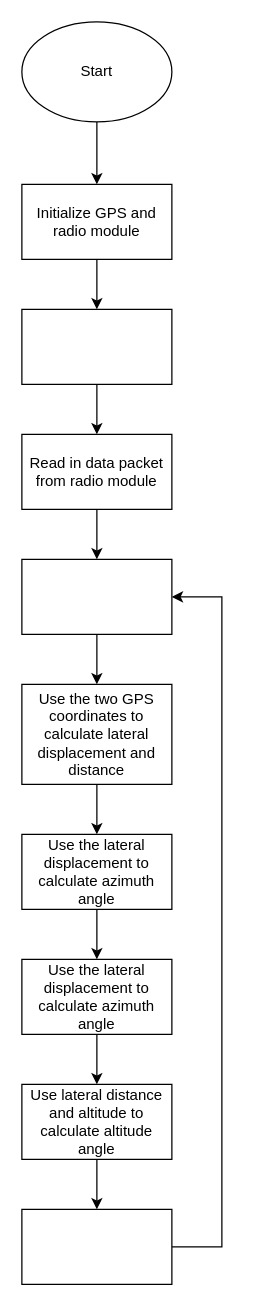
Some shapes in this 254 by 1306 pixel diagram are drawn without their labels. Each missing label, with the centre of its shape:
Extract GPS coordinate values and altitude values from data packet: pixel 96 596
Move stepper motor to corresponding altitude and azimuth angles: pixel 96 1246
Read and store GPS coordinate values from the GPS module: pixel 96 346
